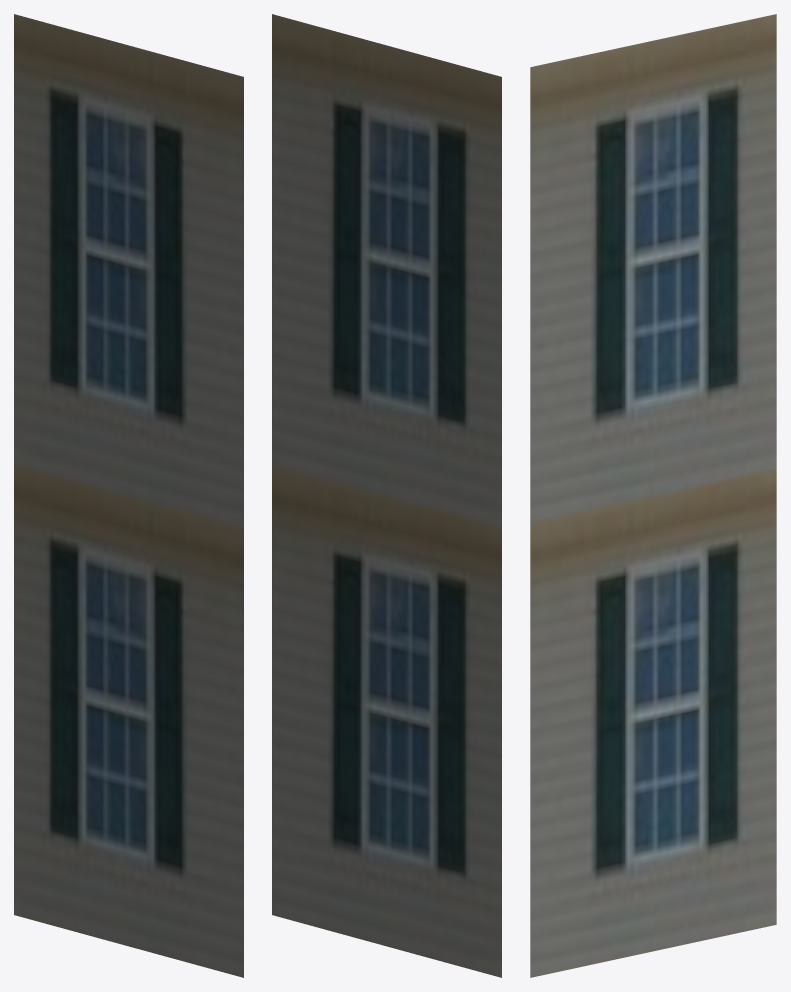
Rendered from ResTex__3885.fbx.
3 renders of one model, left to right at view 1: azimuth 30°, elevation 25°; view 2: azimuth 210°, elevation 25°; view 3: azimuth 270°, elevation 25°, orthographic.
Parts seen in each view (by area): view 1: CityEngineMaterial_7_m; view 2: CityEngineMaterial_7_m; view 3: CityEngineMaterial_7_m.
Boxes of the visible parts, x1,y1,x2,y2 form: CityEngineMaterial_7_m: (14, 14, 243, 977); CityEngineMaterial_7_m: (272, 14, 501, 977); CityEngineMaterial_7_m: (530, 14, 776, 977).
Size of the model in its own units: 0.7525 by 6 by 1.47.
1 material, 1 textured.
